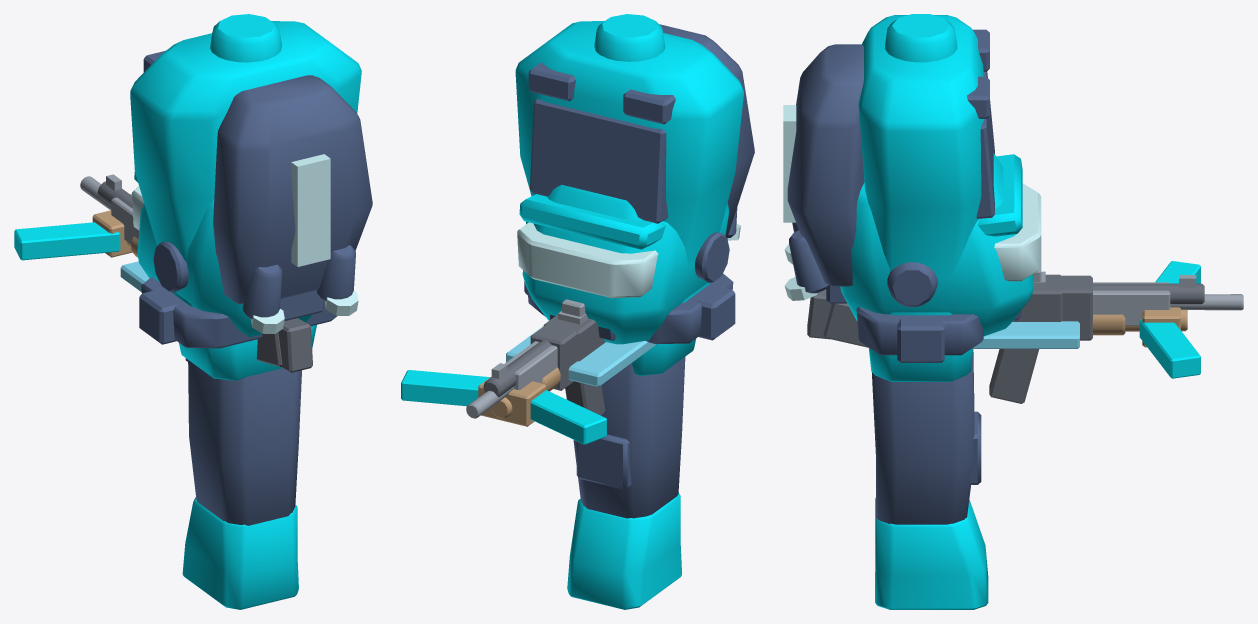
File: fighter.glb
3 renders of one model, left to right at view 1: azimuth 30°, elevation 25°; view 2: azimuth 150°, elevation 25°; view 3: azimuth 270°, elevation 25°, orthographic. The views are drawn at different scales.
Parts seen in each view (by area): view 1: Pack_Secondary, Torso_Primary, LegL_Secondary, BootL_Primary, Pack_Visor, Armor_Secondary, Head_Primary, Weapon_Pickaxe_Tip, ArmL_Primary, Helmet_Secondary, Weapon_AR_Dark, Weapon_Shotgun_Dark (+3 smaller); view 2: Torso_Primary, Armor_Secondary, Head_Primary, LegL_Secondary, BootL_Primary, Visor_Emissive, Weapon_Pickaxe_Tip, Pack_Secondary, Weapon_AR_Dark, Weapon_Blueprint, Weapon_AR_Accent, Weapon_Shotgun_Dark (+3 smaller); view 3: Torso_Primary, Pack_Secondary, LegL_Secondary, Head_Primary, BootL_Primary, Armor_Secondary, Weapon_AR_Dark, Weapon_Shotgun_Dark, Weapon_AR_Accent, Weapon_Pickaxe_Tip, Visor_Emissive, Weapon_Blueprint (+5 smaller).
Boxes of the visible parts, x1,y1,x2,y2 form: Pack_Secondary: (213, 75, 372, 319); Torso_Primary: (130, 14, 361, 306); LegL_Secondary: (188, 360, 301, 525); BootL_Primary: (182, 497, 298, 609); Pack_Visor: (250, 154, 358, 333); Armor_Secondary: (139, 50, 337, 348); Head_Primary: (134, 171, 312, 337); Weapon_Pickaxe_Tip: (14, 222, 120, 260); ArmL_Primary: (179, 339, 282, 380); Helmet_Secondary: (153, 241, 324, 321); Weapon_AR_Dark: (185, 318, 312, 372); Weapon_Shotgun_Dark: (97, 181, 282, 366); Torso_Primary: (515, 14, 743, 302); Armor_Secondary: (524, 62, 735, 344); Head_Primary: (519, 185, 729, 344); LegL_Secondary: (573, 357, 685, 518); BootL_Primary: (567, 493, 681, 609); Visor_Emissive: (517, 222, 658, 298); Weapon_Pickaxe_Tip: (401, 370, 606, 444); Pack_Secondary: (660, 24, 754, 238); Weapon_AR_Dark: (530, 316, 605, 415); Weapon_Blueprint: (506, 326, 656, 386); Weapon_AR_Accent: (466, 299, 585, 418); Weapon_Shotgun_Dark: (483, 314, 605, 396); Torso_Primary: (858, 14, 983, 315); Pack_Secondary: (787, 44, 864, 293); LegL_Secondary: (872, 350, 981, 524); Head_Primary: (840, 153, 1033, 336); BootL_Primary: (875, 498, 988, 609); Armor_Secondary: (856, 29, 994, 362); Weapon_AR_Dark: (807, 275, 1092, 403); Weapon_Shotgun_Dark: (823, 274, 1204, 347); Weapon_AR_Accent: (1033, 267, 1243, 325); Weapon_Pickaxe_Tip: (1139, 261, 1200, 378); Visor_Emissive: (994, 183, 1041, 281); Weapon_Blueprint: (972, 321, 1079, 348).
Bounding box in the file's own units: 0.549 × 1.46 × 1.07.
